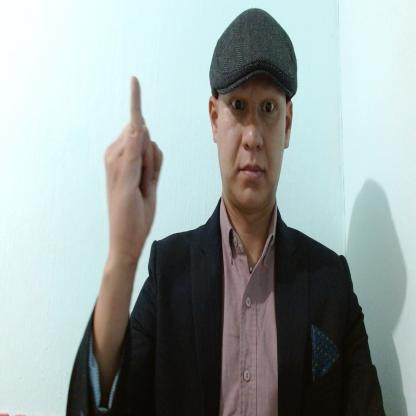I: (104, 71, 165, 257)
